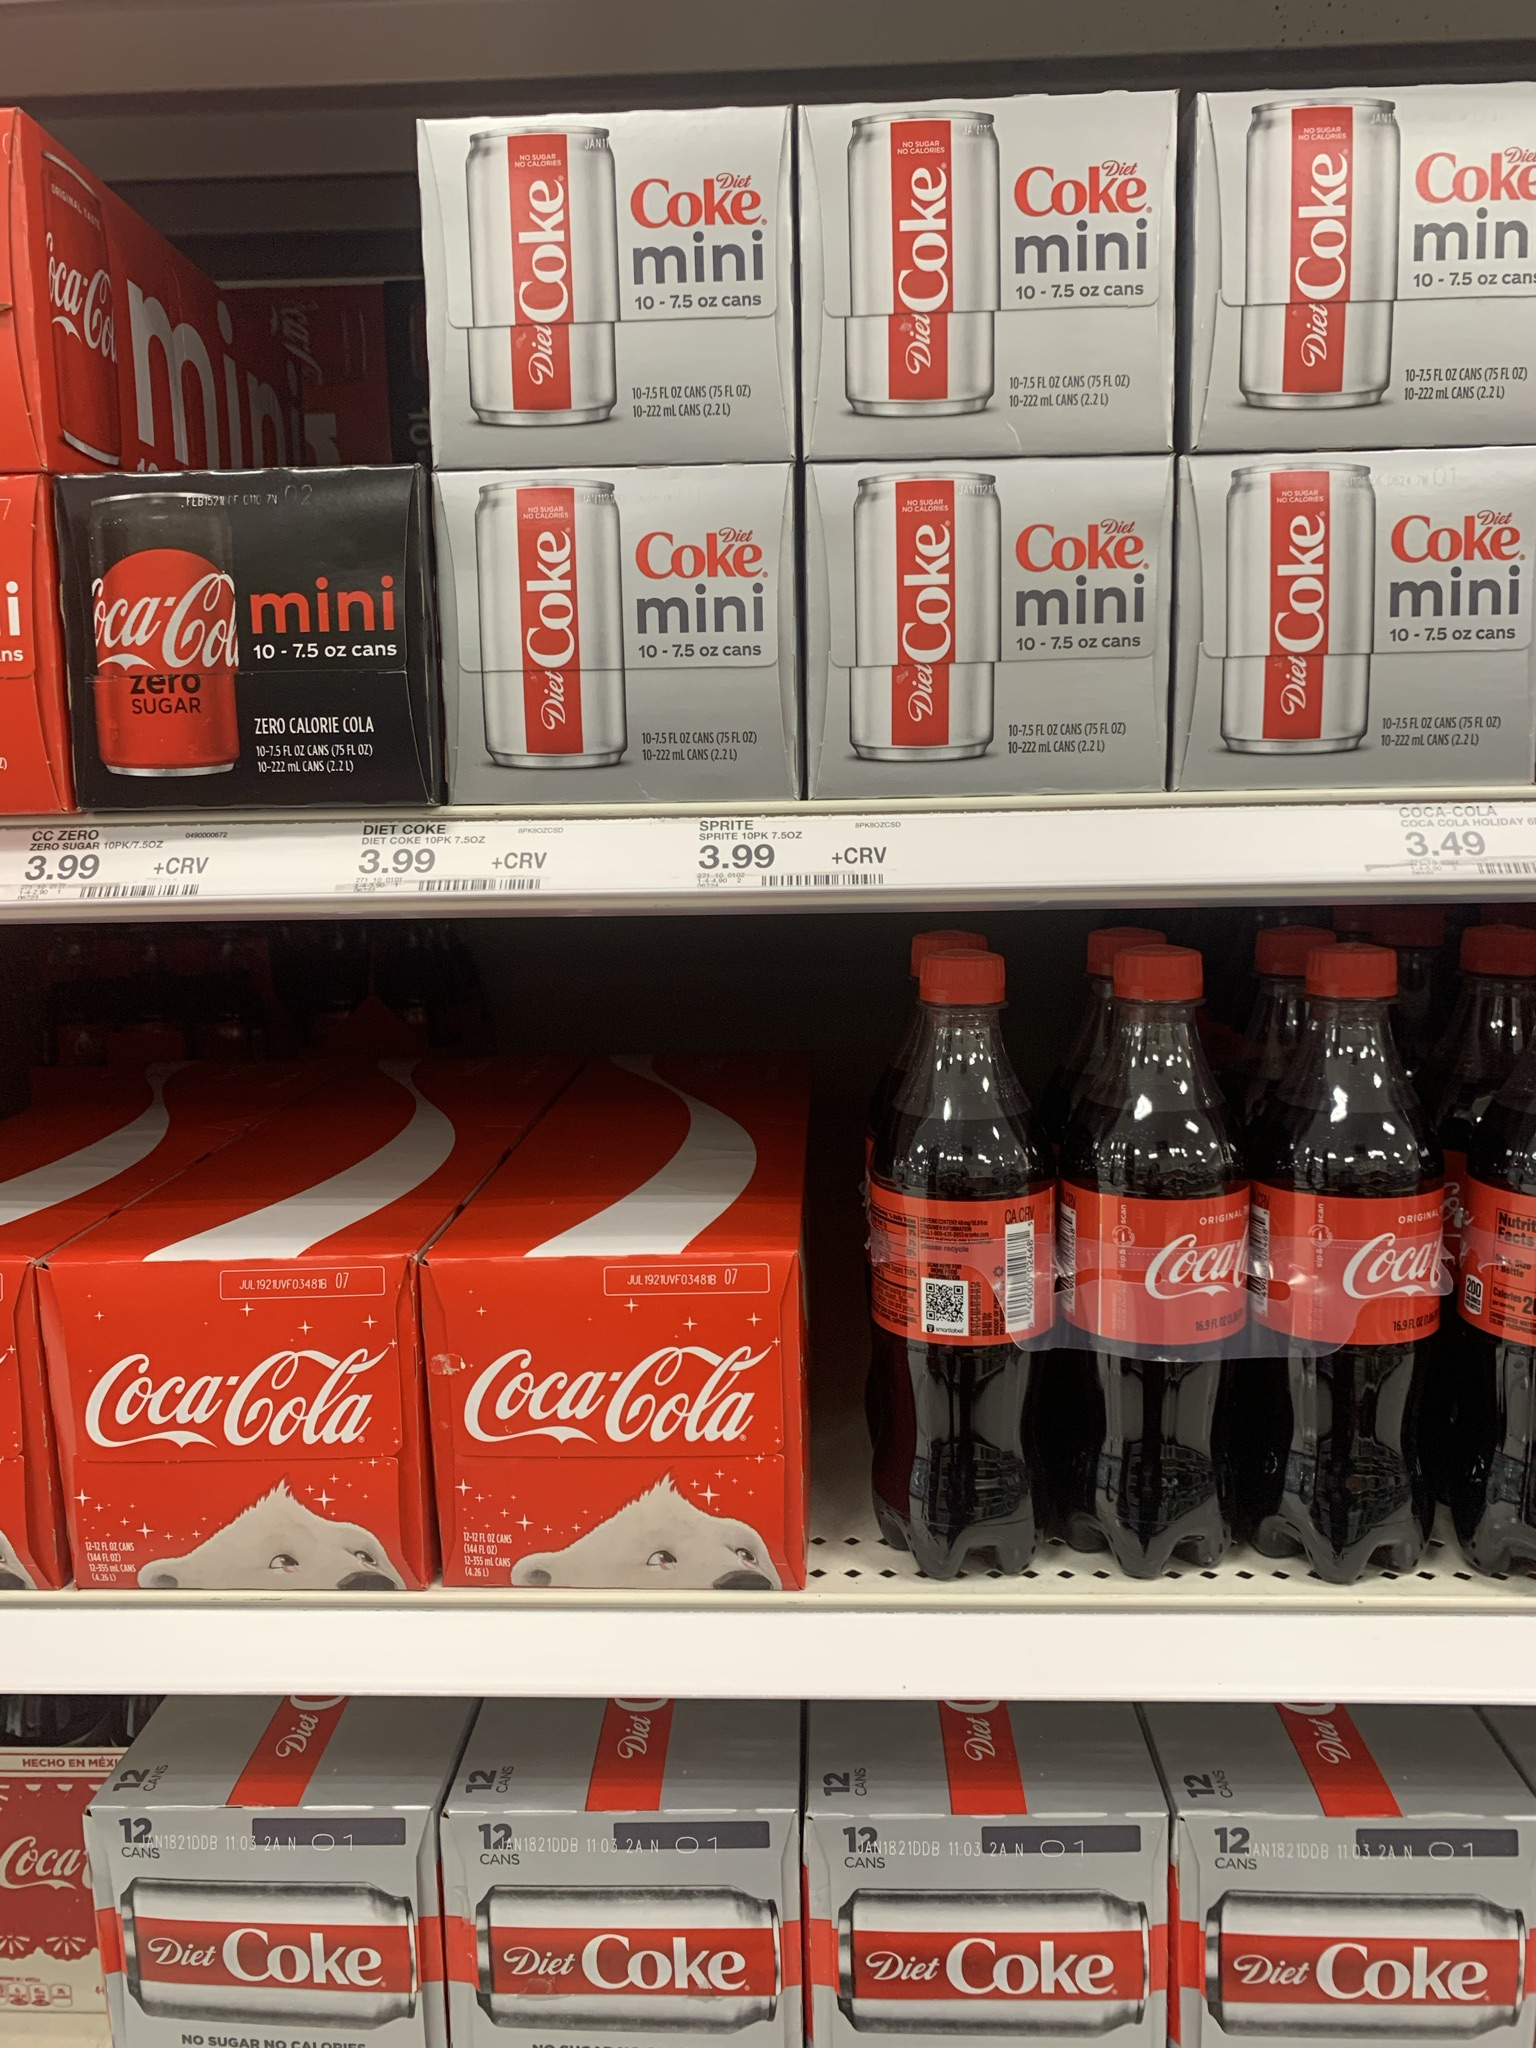coke soda: (428, 1250, 808, 1587), (56, 1255, 434, 1593), (79, 460, 428, 826), (423, 119, 784, 448), (807, 116, 1154, 429), (1197, 85, 1502, 419), (429, 1804, 797, 2048), (820, 1804, 1167, 2046), (1197, 1806, 1525, 2042), (103, 1819, 374, 2004)
